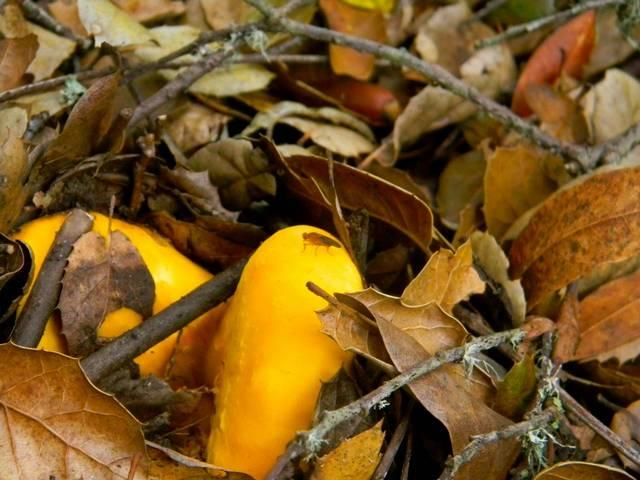Edible Mushroom: (202, 223, 368, 479)
